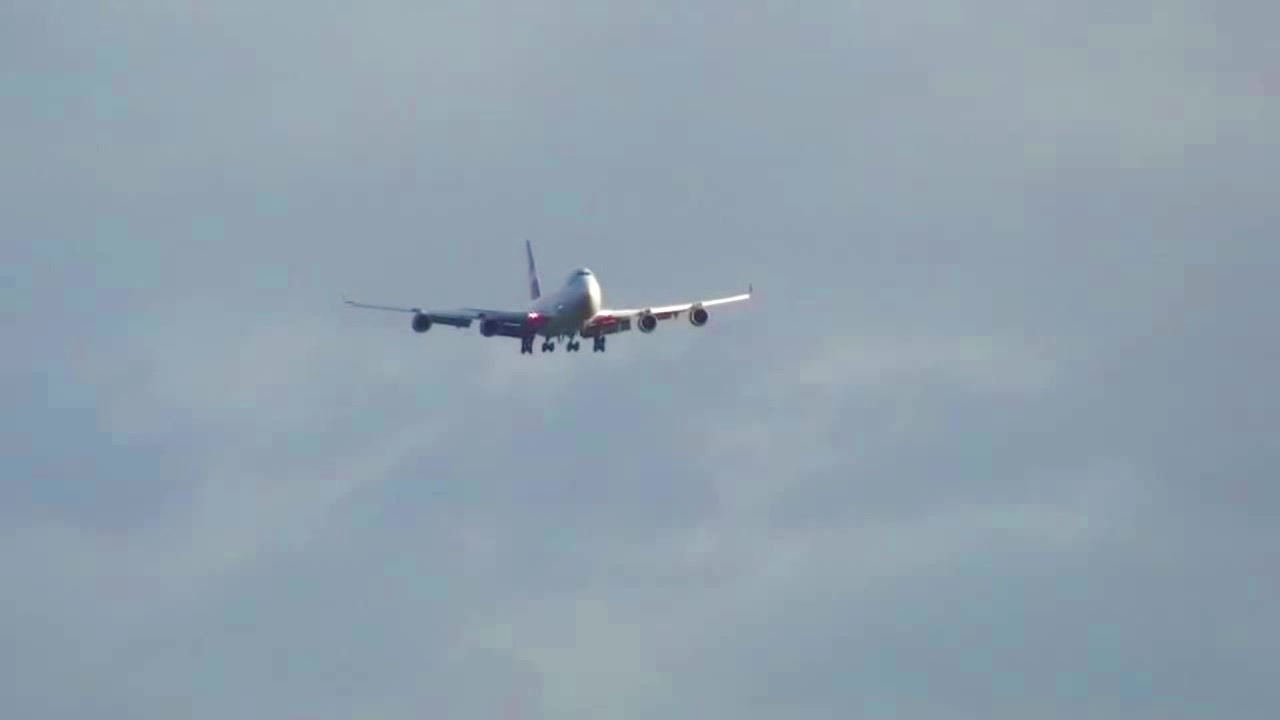aeroplane: (339, 236, 759, 352)
